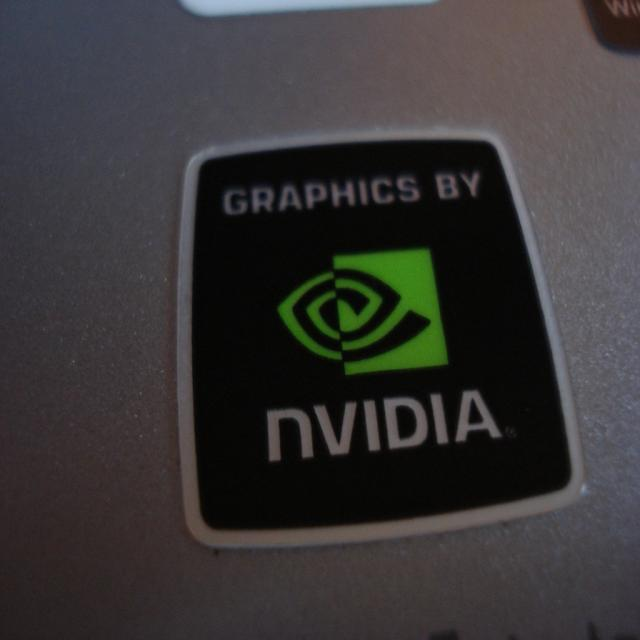nvidia: (277, 249, 450, 379)
